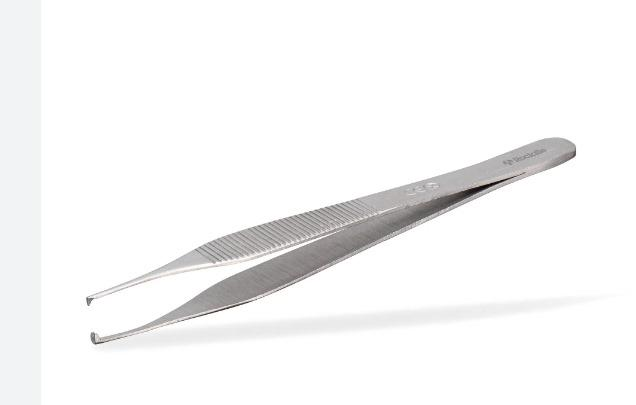Dissecting Forceps Tooth: (86, 129, 580, 346)
